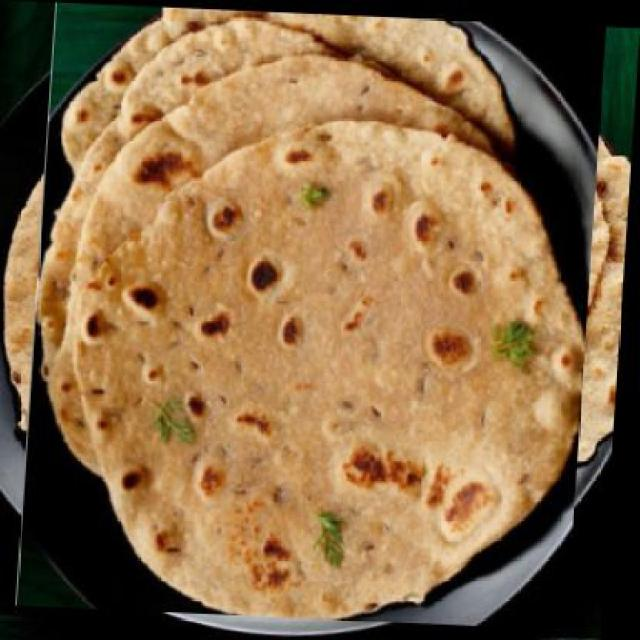chapati: (9, 8, 623, 610)
